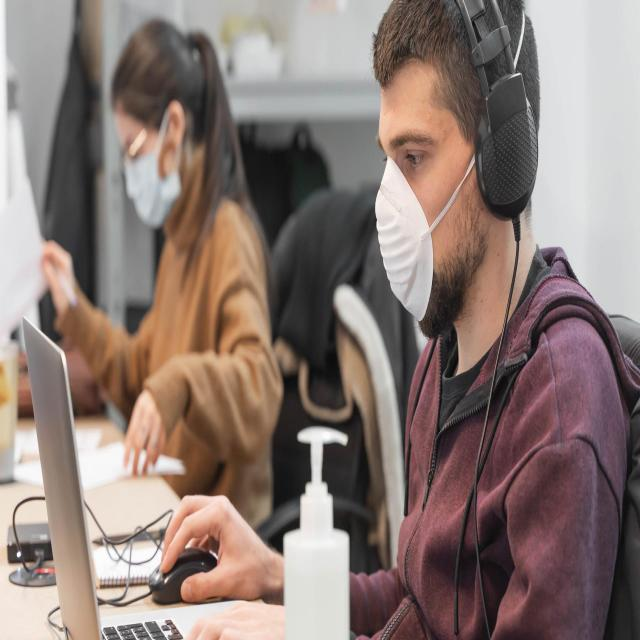person: (148, 2, 624, 640), (6, 9, 296, 537)
